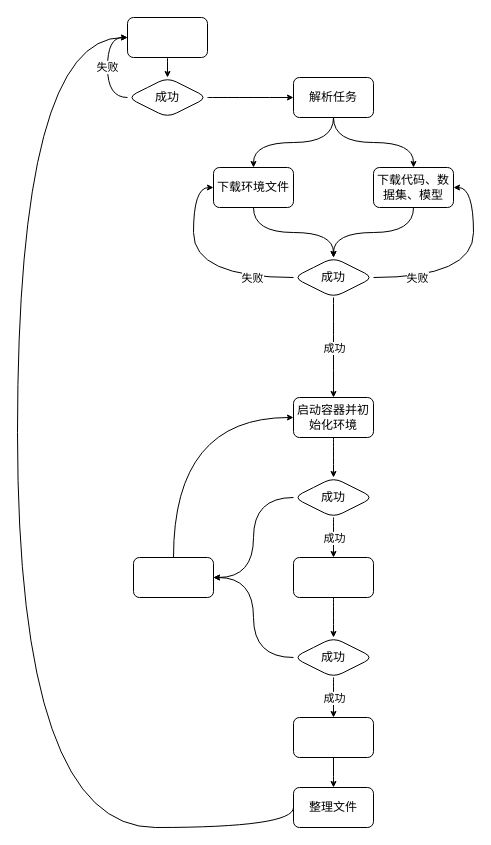
This 491x845 diagram has some shape labels left out. The centre of each missing label's shape, as x and y in pixels:
开始任务: the point at 333,577
异常情况处理: the point at 173,577
返回结果 上传模型: the point at 333,737
闲时向平台 请求任务: the point at 167,37
